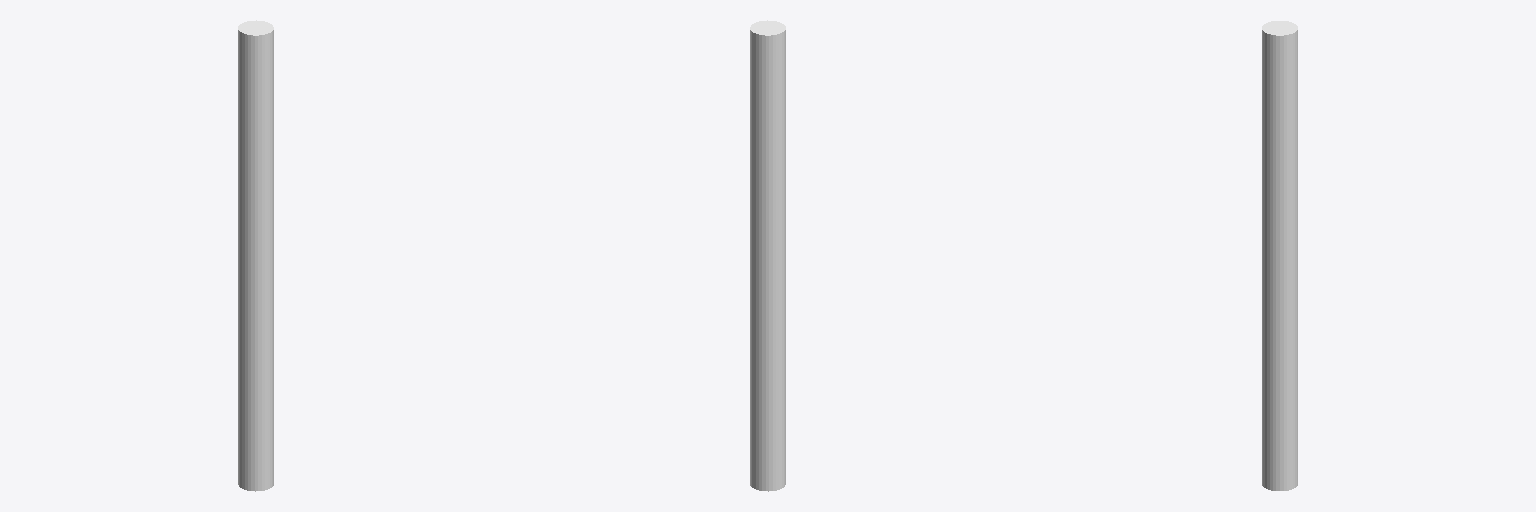
URDF robot description (wood):
<?xml version="1.0" ?>
<robot name="wood">

<material name="silver">
  <color rgba="0.700 0.700 0.700 1.000"/>
</material>

<link name="base_link">
  <inertial>
    <origin xyz="0.0 0.0 0.0" rpy="0 0 0"/>
    <mass value="100.0"/>
    <inertia ixx="7.248282570362268" iyy="486.84297930933906" izz="486.84297930933934" ixy="0.0" iyz="0.0" ixz="0.0"/>
    <!--dynamics friction=".8" damping=".5"/-->
  </inertial>
  
  <visual>
    <origin xyz="0 0 0" rpy="0 0 0"/>
    <geometry>
      <!--cylinder length="3.5" radius=".125"/-->
      <mesh filename="meshes/wood4.obj" scale=".001 .001 .001"/>

    </geometry>
    <material name="white">
        <color rgba="1 1 1 1"/>
        <specular rgb="0 0 0"/>
    </material>
  </visual>
  
  <collision concave="yes">
    <origin xyz="0 0 0" rpy="0 0 0"/>
    <geometry>
      <cylinder length="3.5" radius=".125"/>
    </geometry>
  </collision>

  <contact>
    <lateral_friction value=".2"/>
    <rolling_friction value=".2"/>
    <!--contact_cfm value="11"/-->
    <!--contact_erp value="1"/-->
    <!--stiffness value="3000000"/-->
    <!--damping value="100000"/-->
  </contact>

</link>

</robot>

--- Render facts (derived) ---
3 views of the same robot in one strip: view 1: azimuth 30°, elevation 25°; view 2: azimuth 150°, elevation 25°; view 3: azimuth 270°, elevation 25° (orthographic).
Model wood with 1 links and 0 joints (none), rooted at base_link, posed all joints at 0.
Links seen in each view (by area): view 1: base_link; view 2: base_link; view 3: base_link.
Link boxes in pixels (x1=…): base_link: x1=238, y1=20, x2=273, y2=491; base_link: x1=750, y1=20, x2=785, y2=491; base_link: x1=1262, y1=21, x2=1297, y2=490.
Size in the robot's own frame: 0.25 by 0.25 by 3.5 metres.
Meshes: 1 distinct files referenced, 1 mesh visuals loaded (1 OBJ).